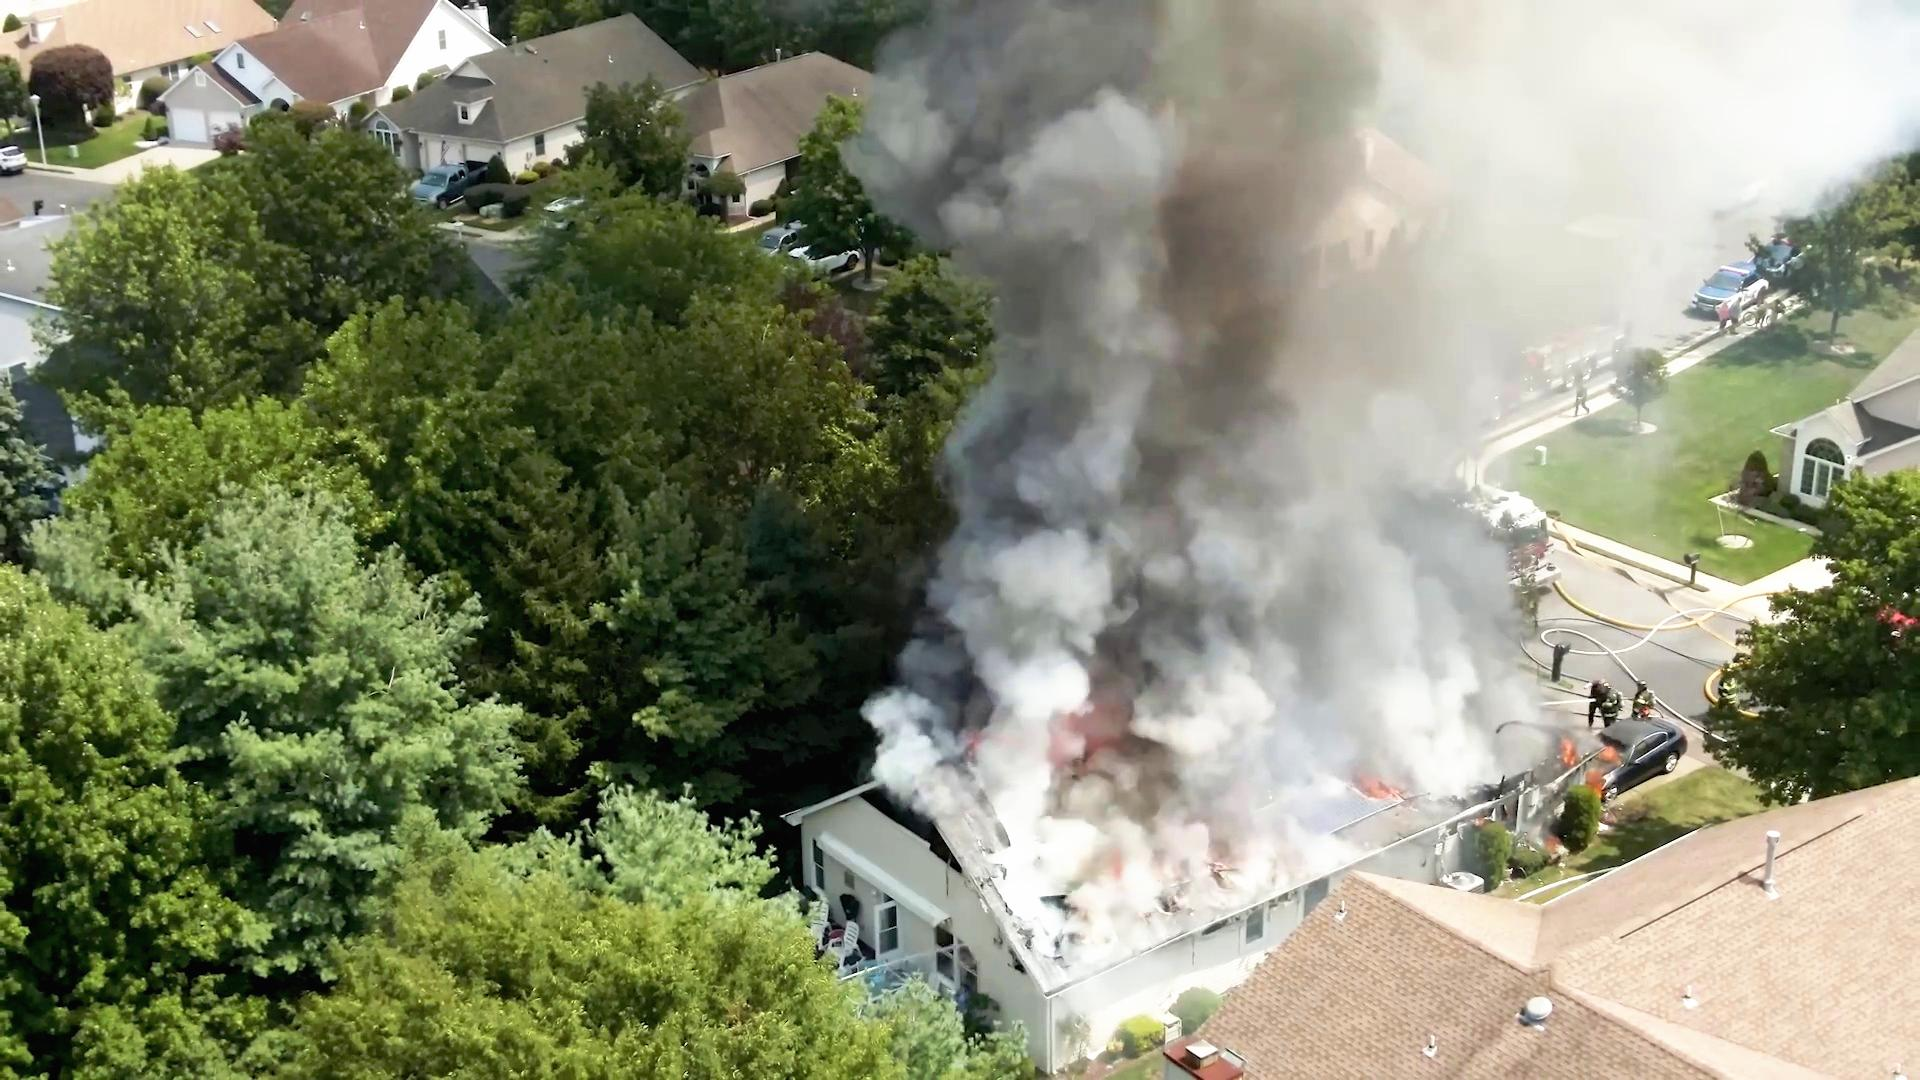smoke: (1230, 219, 1528, 741), (996, 243, 1273, 742), (858, 0, 1342, 215), (996, 716, 1259, 909)
